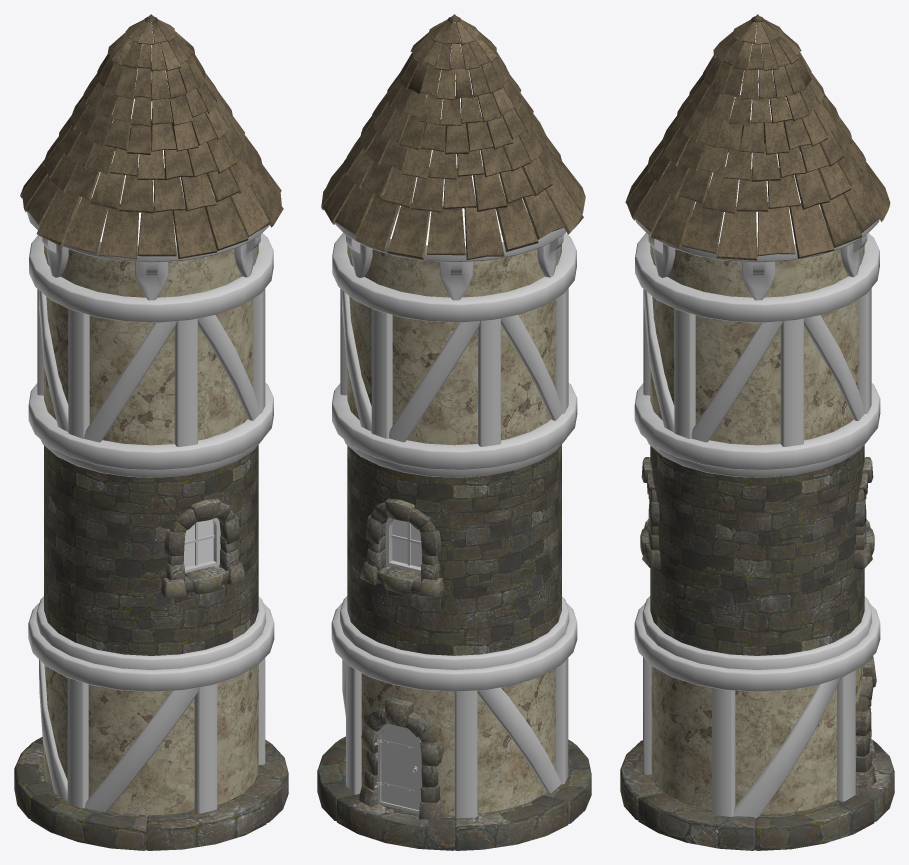
3 renders of one model, left to right at view 1: azimuth 30°, elevation 25°; view 2: azimuth 150°, elevation 25°; view 3: azimuth 270°, elevation 25°, orthographic.
Visible parts, largest first — view 1: Tower; view 2: Tower; view 3: Tower.
Part boxes in pixels (x1,y1,x2,y2): Tower: (14,14,288,850); Tower: (317,14,591,850); Tower: (620,14,894,850).
Size of the model in its own units: 619 by 1944 by 620.
